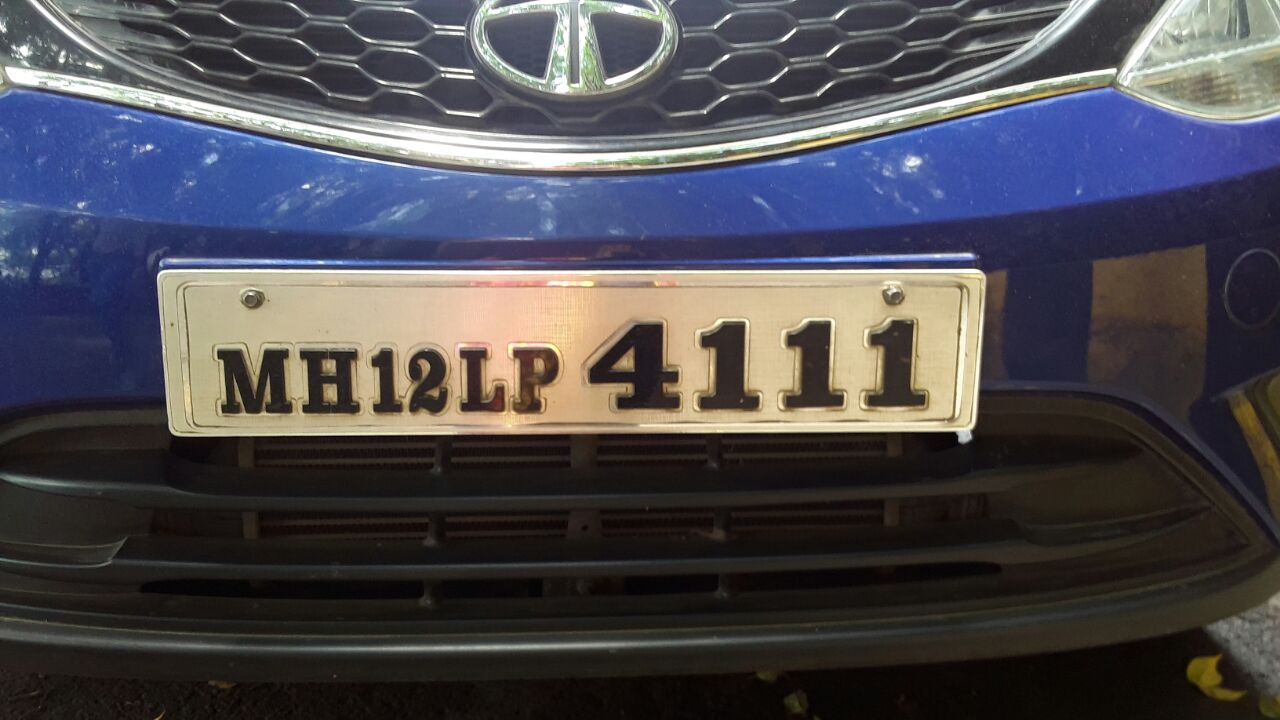licenseplate: (146, 263, 991, 455)
